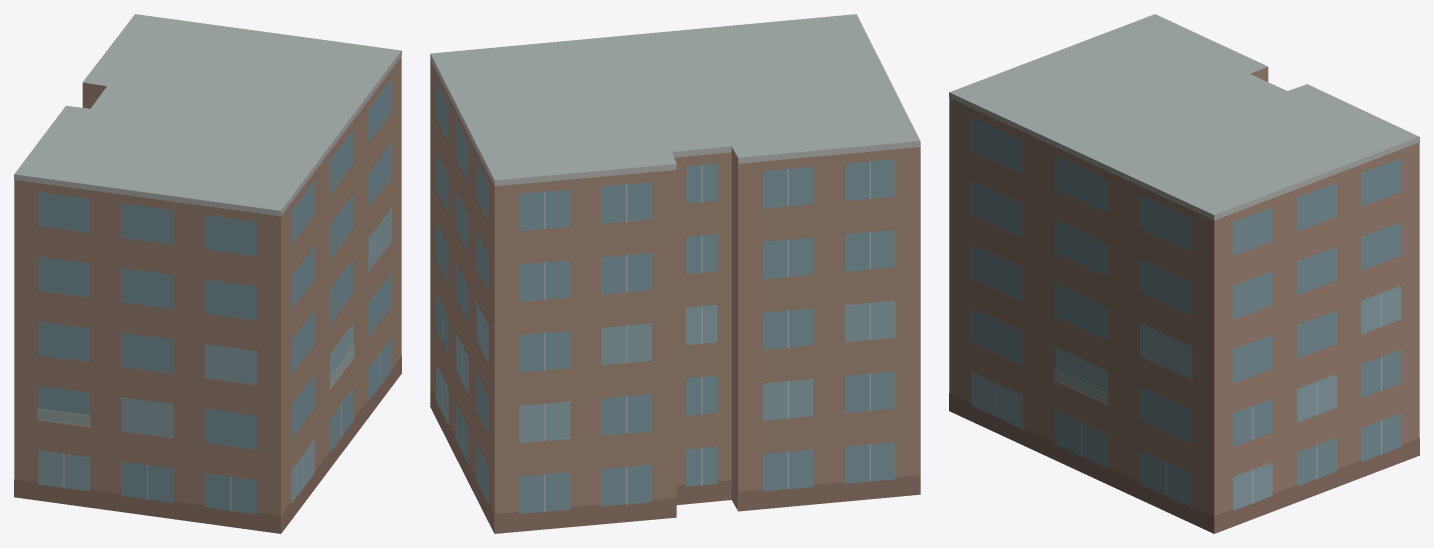
File: survey-upis-32940133.glb
3 renders of one model, left to right at view 1: azimuth 30°, elevation 25°; view 2: azimuth 150°, elevation 25°; view 3: azimuth 270°, elevation 25°, orthographic. The views are drawn at different scales.
Visible parts, largest first — view 1: survey-upis-32940133.tmp; view 2: survey-upis-32940133.tmp; view 3: survey-upis-32940133.tmp.
Part boxes in pixels (x1,y1,x2,y2): survey-upis-32940133.tmp: (14, 14, 401, 533); survey-upis-32940133.tmp: (430, 14, 920, 533); survey-upis-32940133.tmp: (949, 14, 1419, 533).
Bounding box in the file's own units: 19.5 × 14.4 × 19.27.
